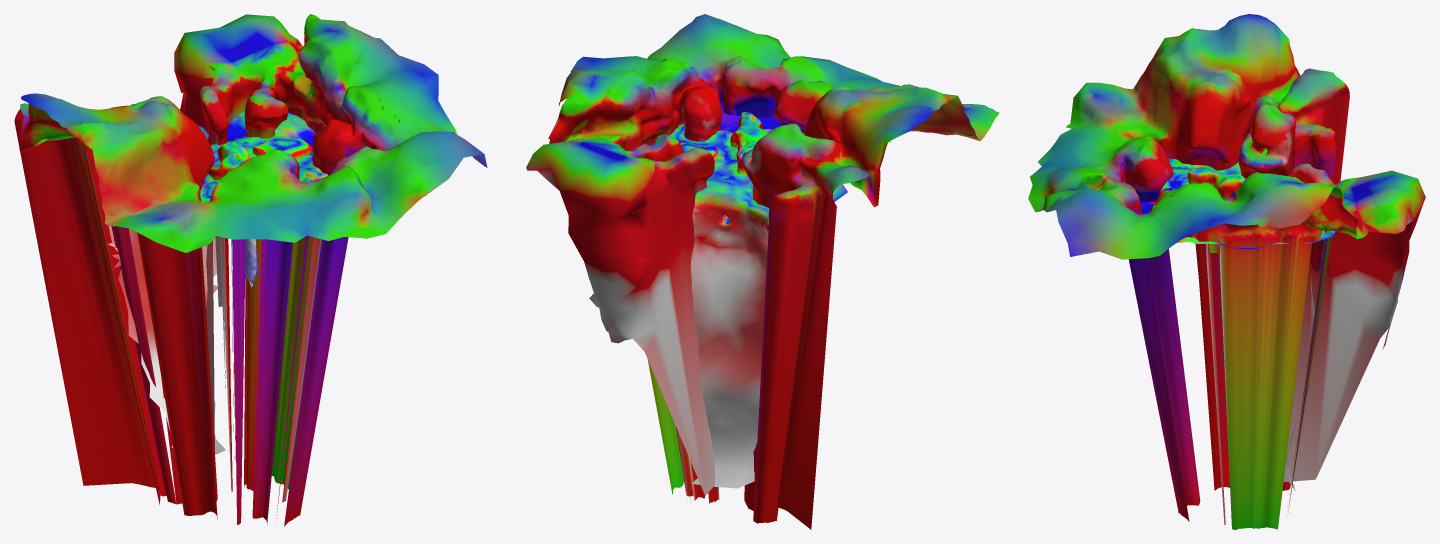
File: FSCTerrain.fbx
The picture shows the model from 3 angles, left to right: view 1: azimuth 30°, elevation 25°; view 2: azimuth 150°, elevation 25°; view 3: azimuth 270°, elevation 25°; orthographic projection. The views are drawn at different scales.
Parts seen in each view (by area): view 1: FSWallMeshHero, FSFloor, FCTerrainCluster1, FCTerrainCluster3; view 2: FSWallMeshHero, FSFloor, FCTerrainCluster2; view 3: FSWallMeshHero, FSFloor, FCTerrainCluster1.
Part boxes in pixels (box(x1,y1,x2,y2)): FSWallMeshHero: box(14, 14, 487, 526); FSFloor: box(108, 112, 425, 454); FCTerrainCluster1: box(208, 142, 249, 180); FCTerrainCluster3: box(252, 136, 312, 159); FSWallMeshHero: box(526, 14, 999, 529); FSFloor: box(670, 102, 891, 488); FCTerrainCluster2: box(730, 112, 765, 147); FSWallMeshHero: box(1028, 14, 1425, 529); FSFloor: box(1140, 158, 1334, 491); FCTerrainCluster1: box(1187, 165, 1245, 198).
Bounding box in the file's own units: 98852 × 109992 × 97442.
